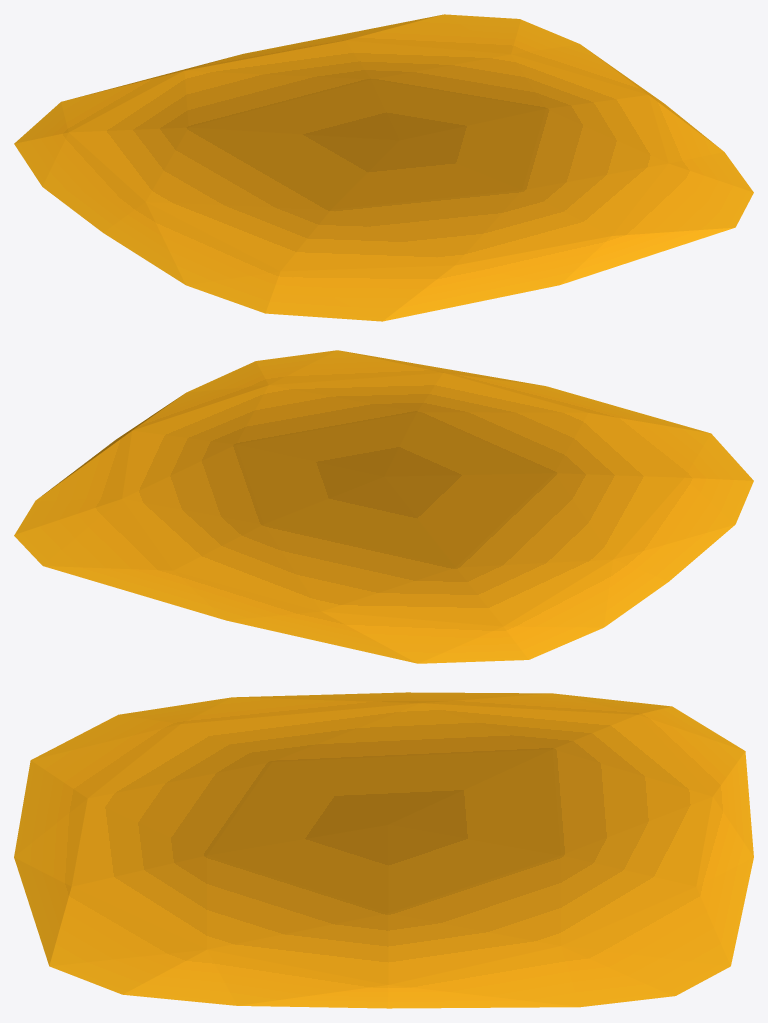
Rendered from MulchHey.glb.
The picture shows the model from 3 angles, top to bottom: view 1: azimuth 30°, elevation 25°; view 2: azimuth 150°, elevation 25°; view 3: azimuth 270°, elevation 25°; orthographic projection. The views are drawn at different scales.
Visible parts, largest first — view 1: Mulch Hey; view 2: Mulch Hey; view 3: Mulch Hey.
Part boxes in pixels (x1=…): Mulch Hey: x1=14, y1=14, x2=753, y2=321; Mulch Hey: x1=14, y1=350, x2=753, y2=663; Mulch Hey: x1=14, y1=692, x2=753, y2=1008.
Bounding box in the file's own units: 0.3258 × 0.0156 × 0.3224.
1 material, 1 textured.
